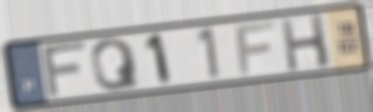1: (144, 30, 174, 87), (196, 25, 222, 81)
F: (40, 38, 90, 101), (233, 19, 278, 78)
H: (278, 11, 334, 73)
Q: (89, 36, 143, 93)
